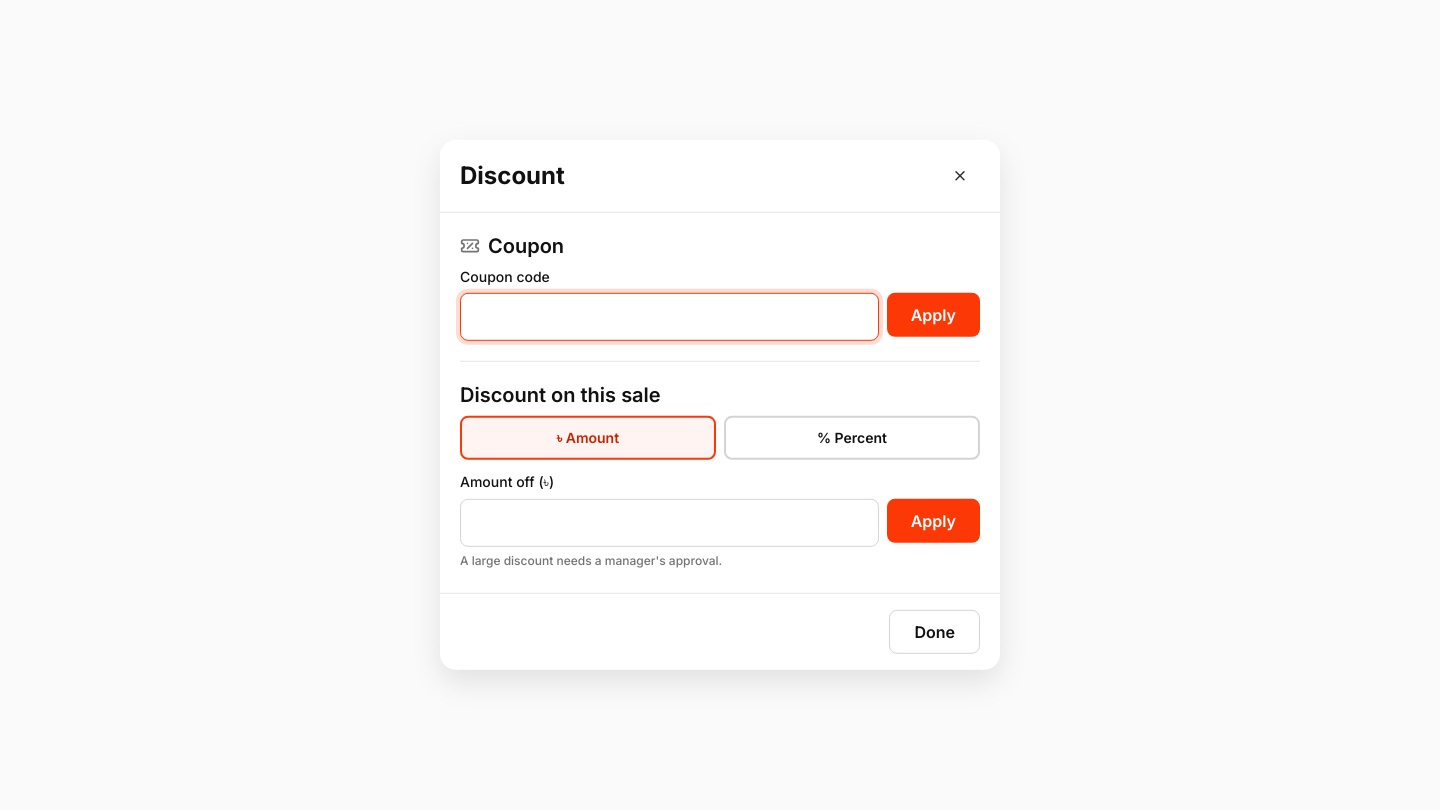
Test case: DiscountPanel, coupons › keeps a refused coupon off the sale and says why
The image size is (1440, 810).
Type "OLD10" into the field labelled "Coupon code" at (669, 317), box [460,293,879,341]
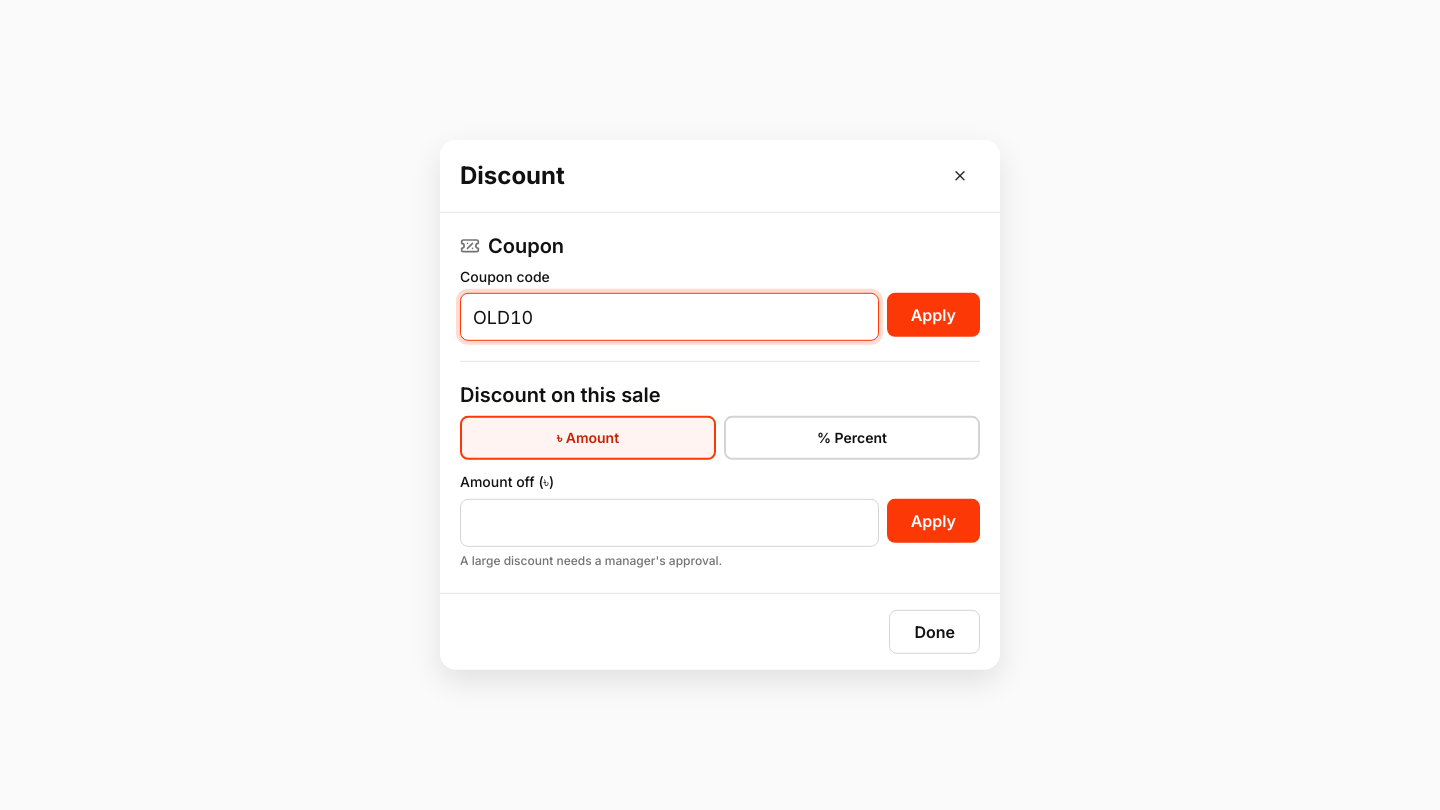
Click the 1st button "Apply" at (933, 315), box [887,293,980,337]
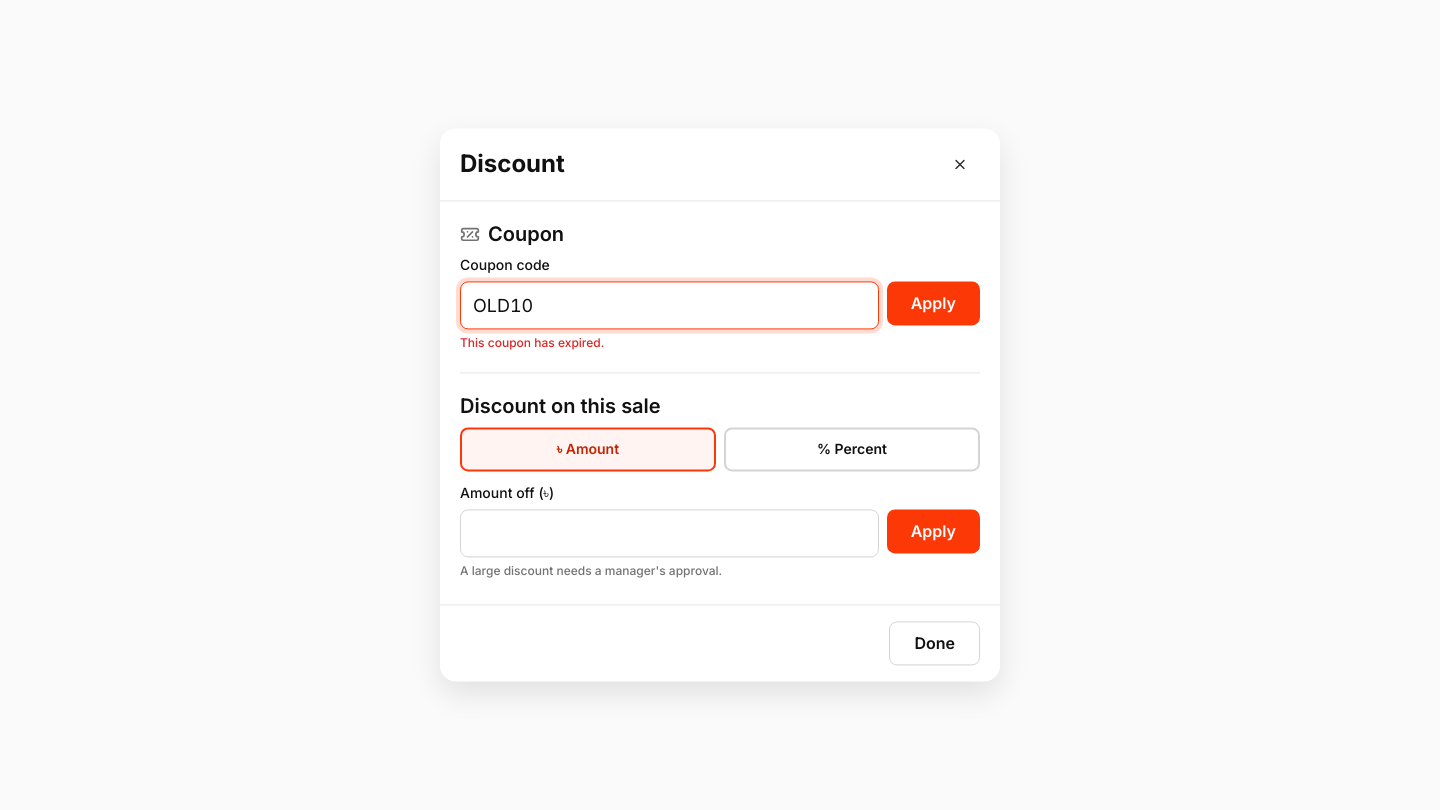
Expected: the text "This coupon has expired." is shown, [460,336,604,351]
